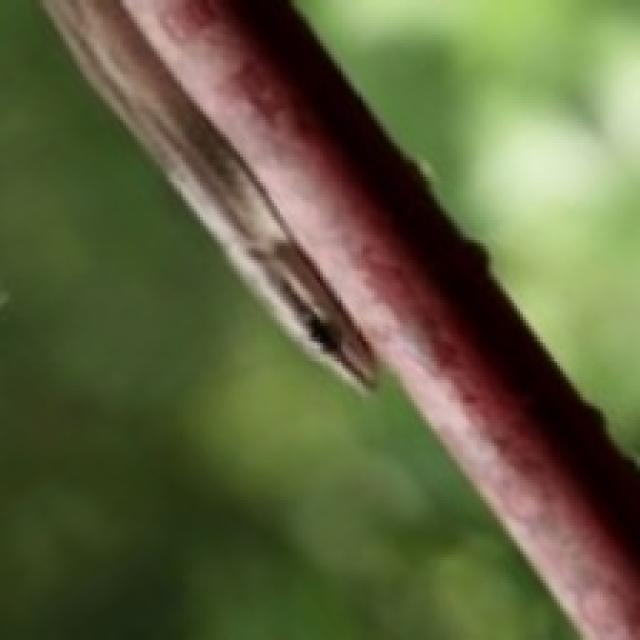red-tailed green ratsnake: (43, 0, 374, 386)
